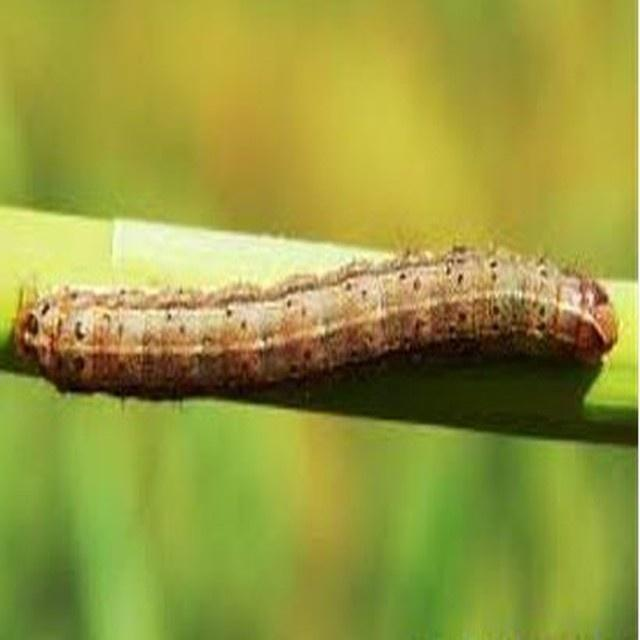worm: (11, 237, 620, 402)
